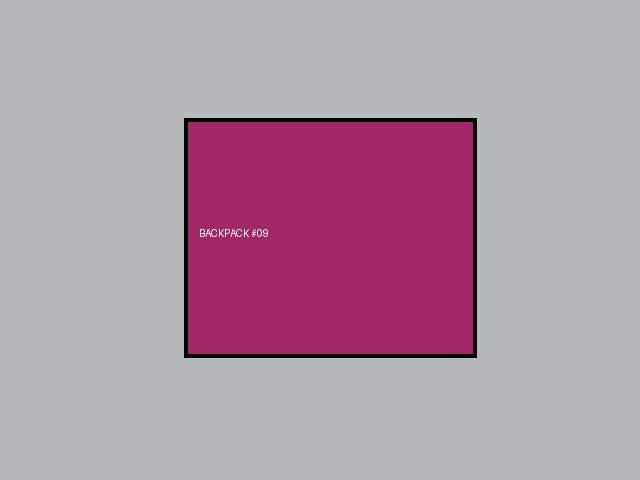backpack: (184, 118, 476, 357)
